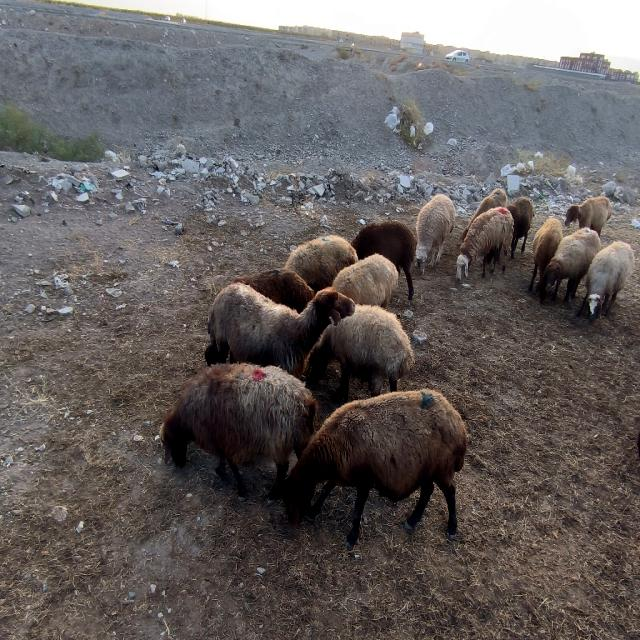sheep: (282, 392, 468, 548), (161, 363, 316, 500), (205, 283, 355, 378), (309, 305, 414, 402), (351, 222, 416, 299), (539, 227, 601, 302), (578, 242, 635, 321), (285, 235, 359, 292), (456, 208, 514, 279), (332, 253, 399, 308), (232, 268, 315, 312), (416, 193, 455, 272), (461, 188, 508, 241), (529, 218, 562, 291), (565, 198, 612, 236), (508, 197, 534, 258)
